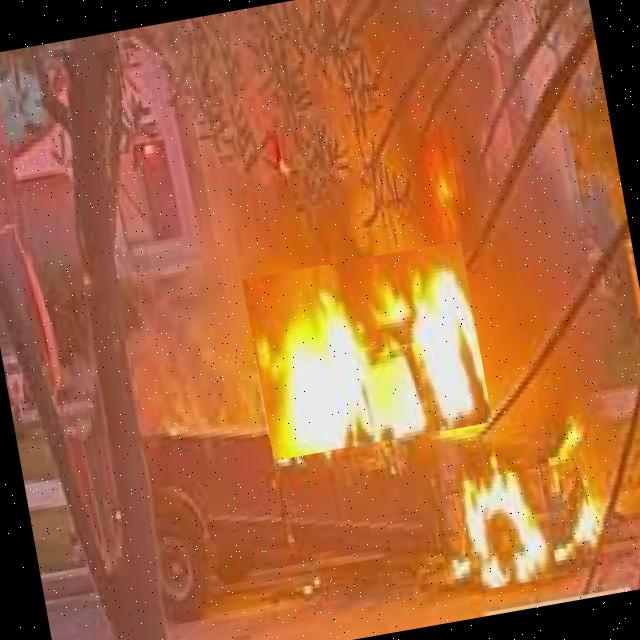fire: (241, 240, 492, 460), (456, 470, 556, 594)
